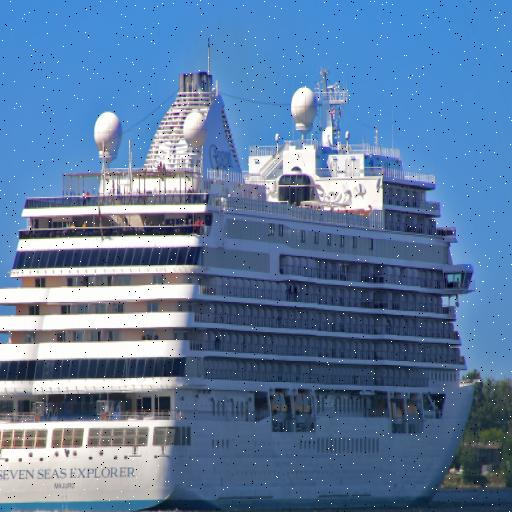cruises: (1, 65, 485, 512)
